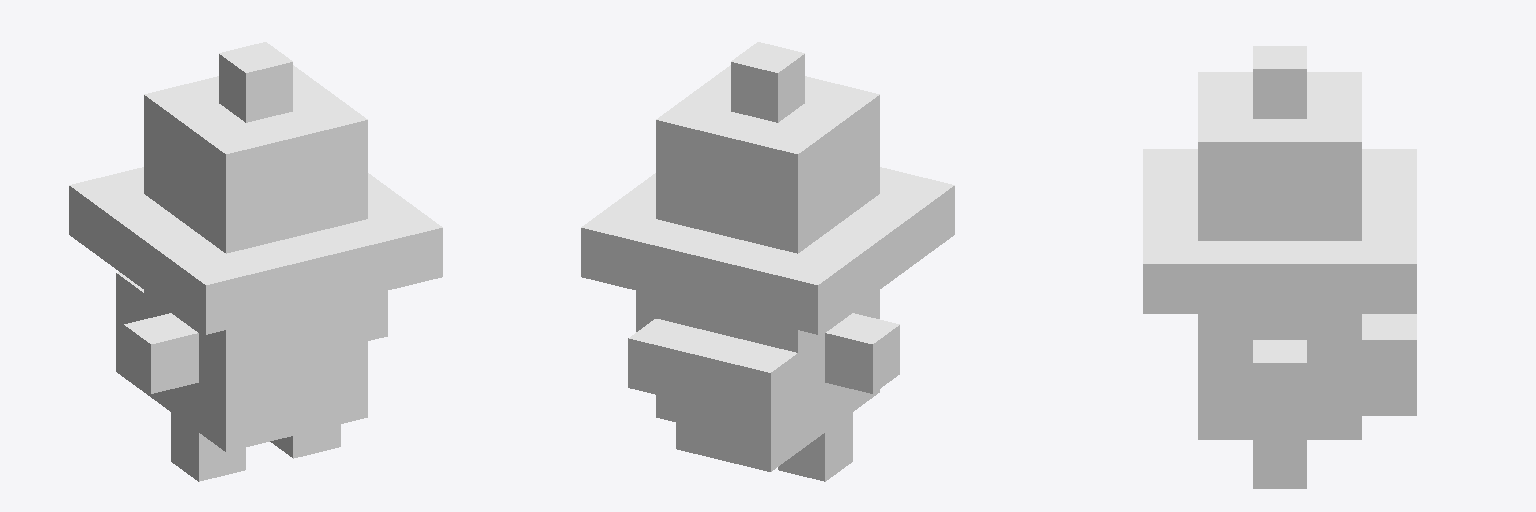
The model's file is GnomeWarriorDetailed.obj.
3 views of the same model, side by side, from view 1: azimuth 30°, elevation 25°; view 2: azimuth 150°, elevation 25°; view 3: azimuth 270°, elevation 25° (orthographic).
Visible parts, largest first — view 1: GnomeWarriorDetailed; view 2: GnomeWarriorDetailed; view 3: GnomeWarriorDetailed.
Part boxes in pixels (x1,y1,x2,y2): GnomeWarriorDetailed: (69,42,442,481); GnomeWarriorDetailed: (581,42,954,481); GnomeWarriorDetailed: (1143,46,1416,488).
Size of the model in its own units: 0.5 by 0.8 by 0.5.